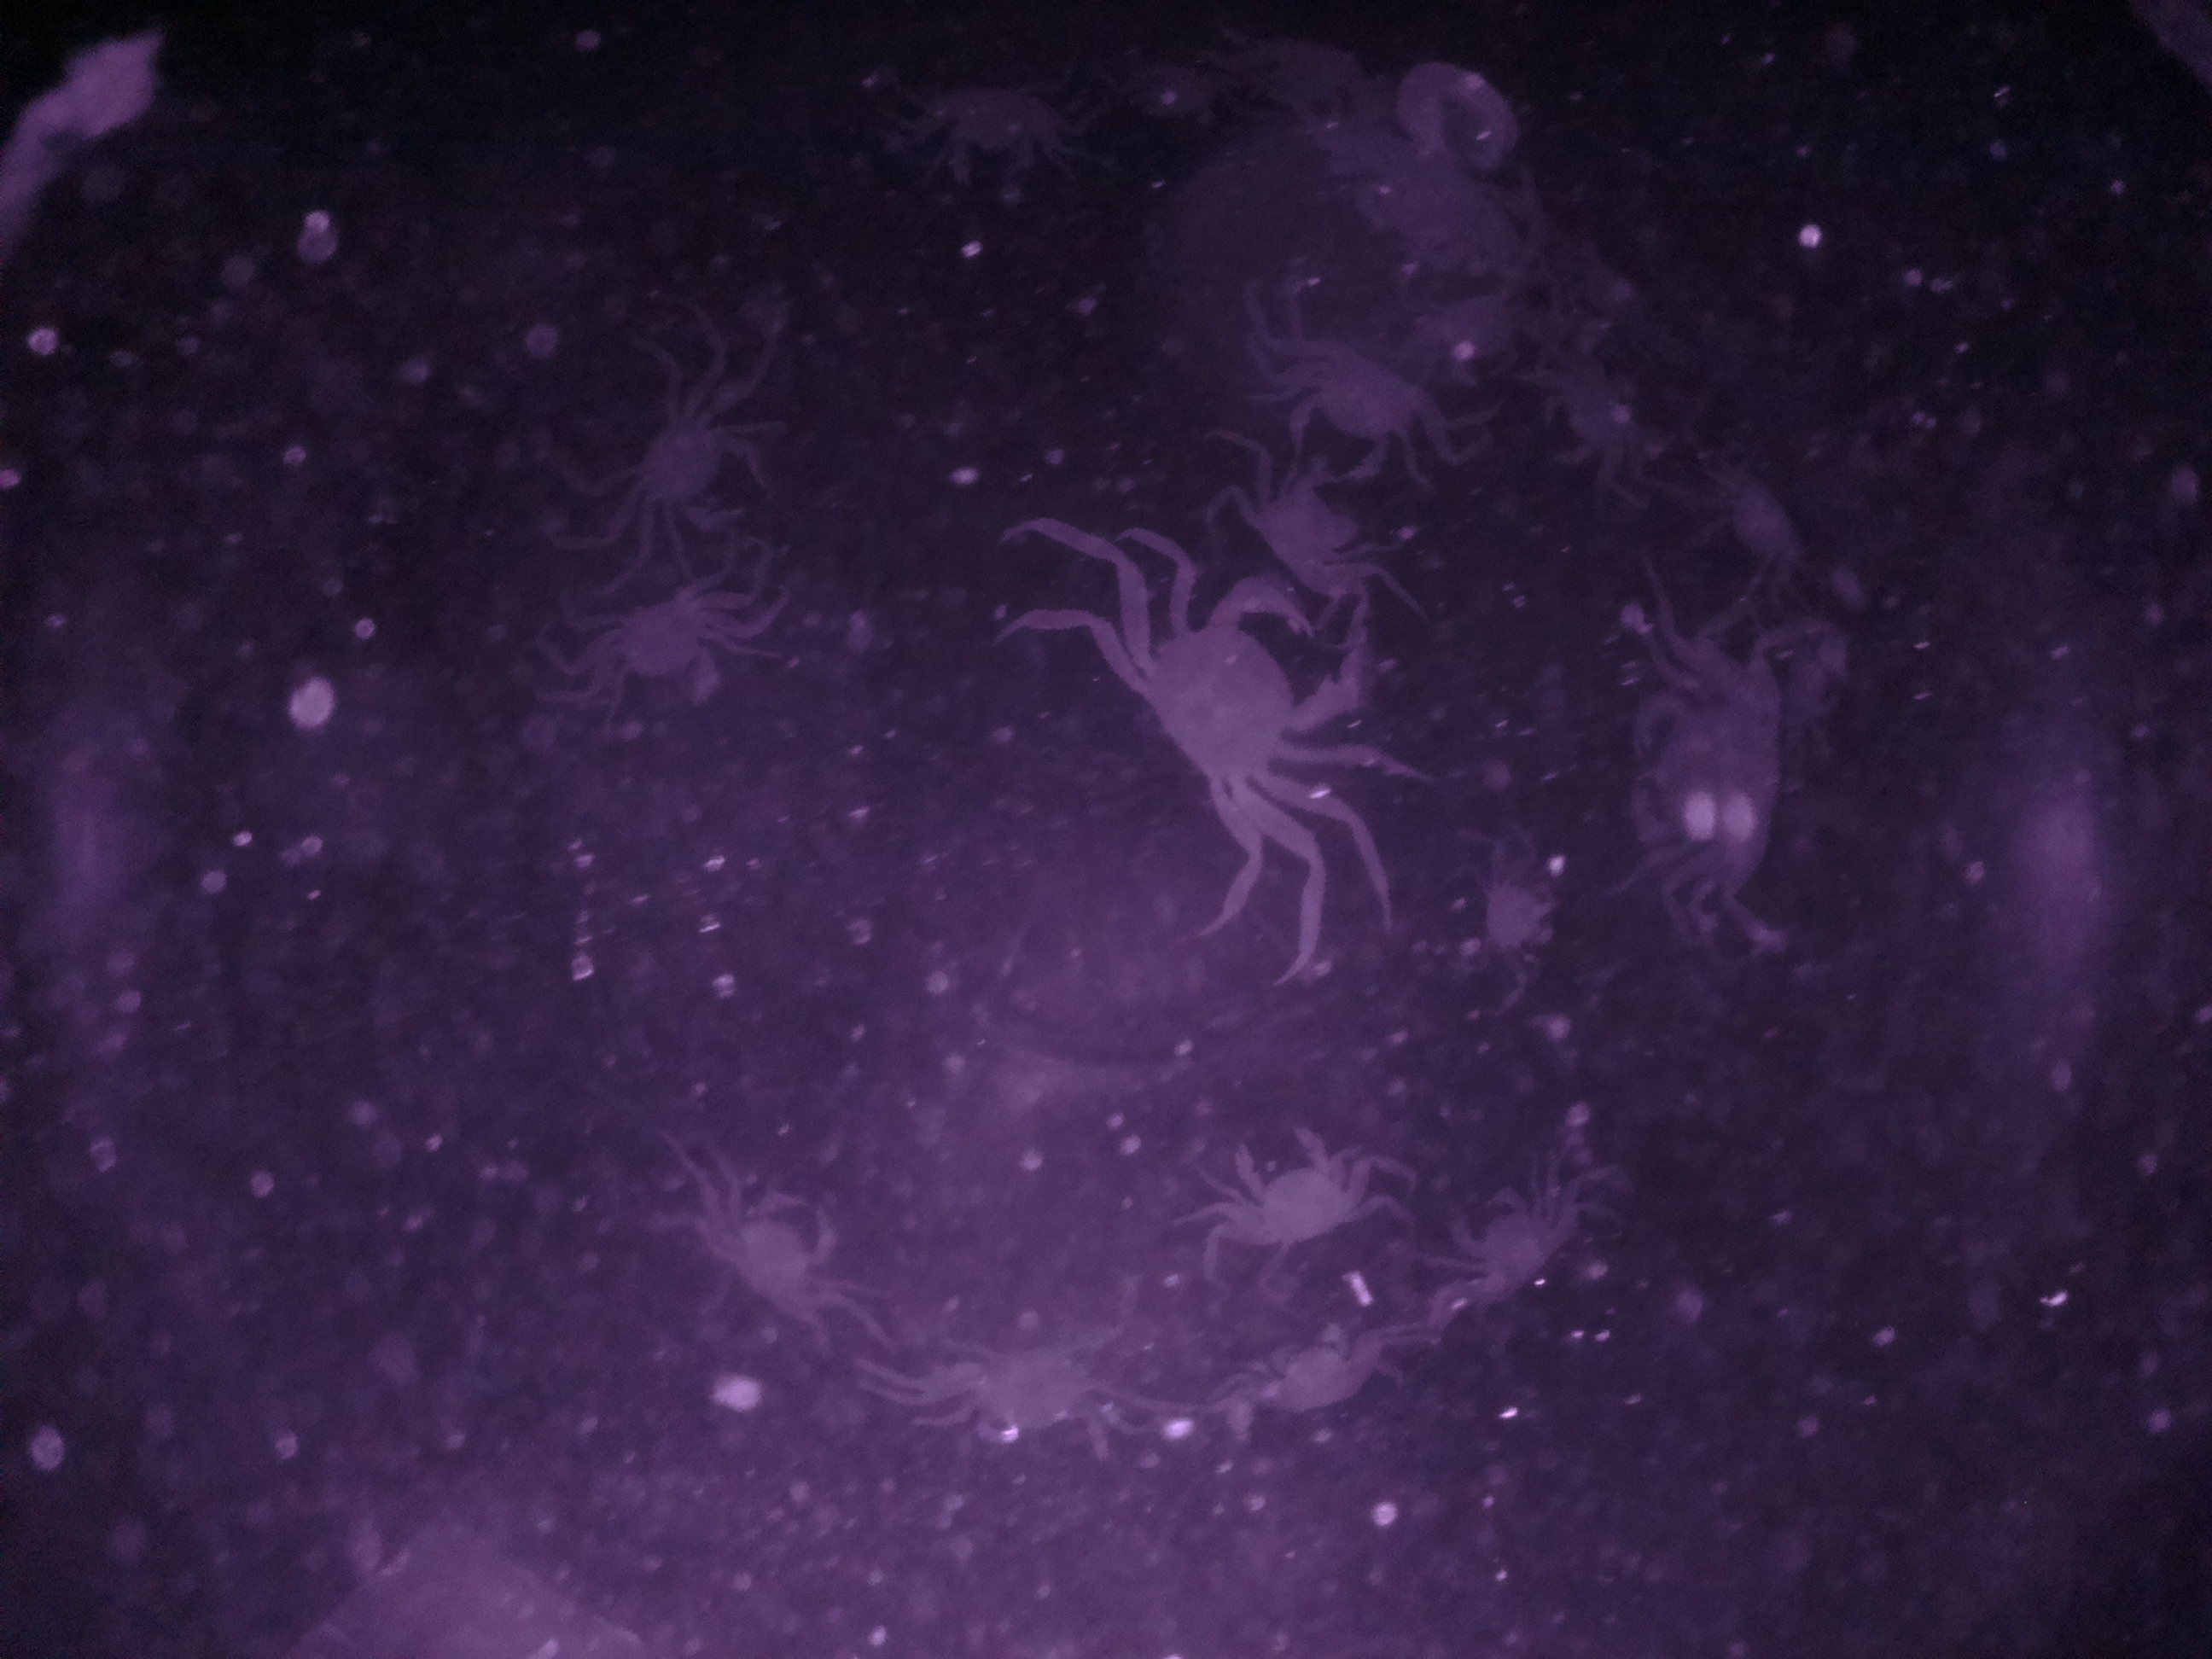Crab: (1099, 573, 1379, 821), (688, 1159, 866, 1359), (1266, 329, 1467, 504), (603, 380, 789, 540), (1202, 1108, 1383, 1272), (563, 573, 763, 720), (1437, 1169, 1583, 1319)
